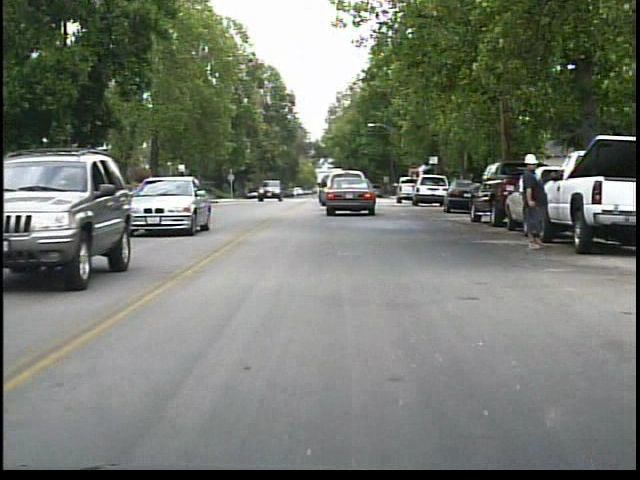person: (513, 147, 552, 253)
